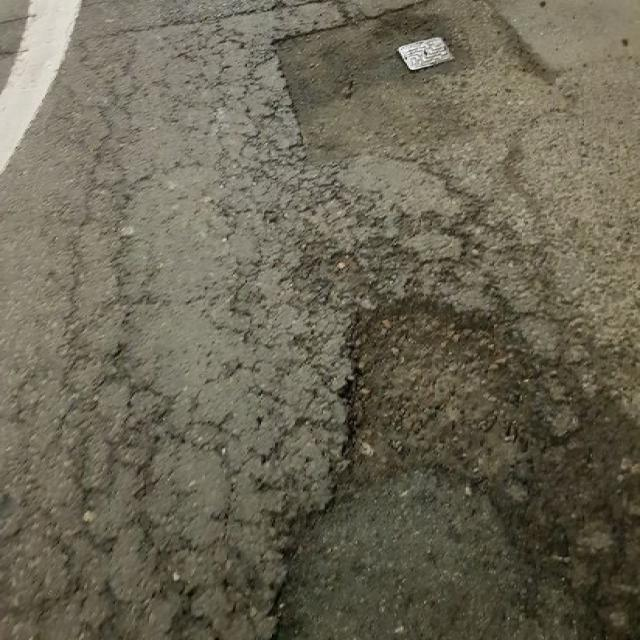Pothole: (326, 290, 528, 478)
